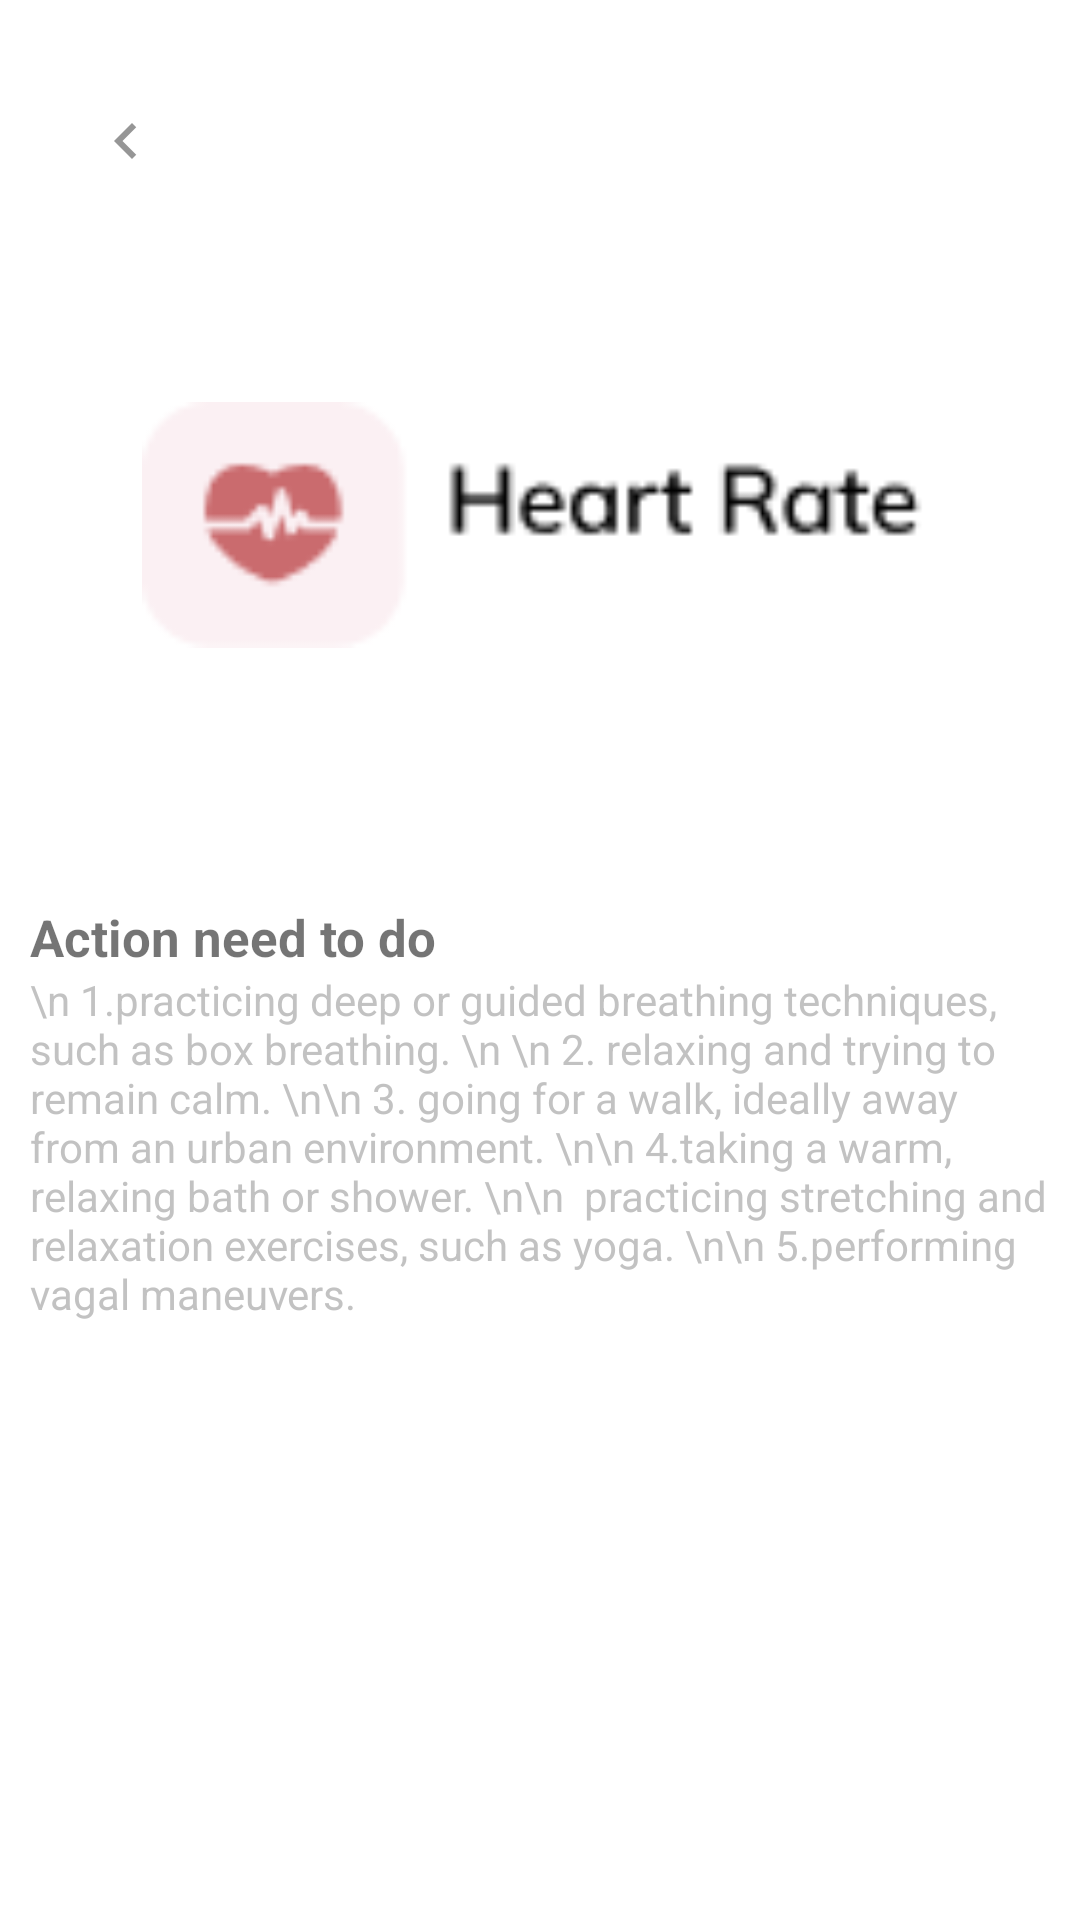

Locate icon controls on the screen. Image size 1080px x 1920px, boxes as (x1, y1, x2, y2).
back: (114, 123, 136, 159)
